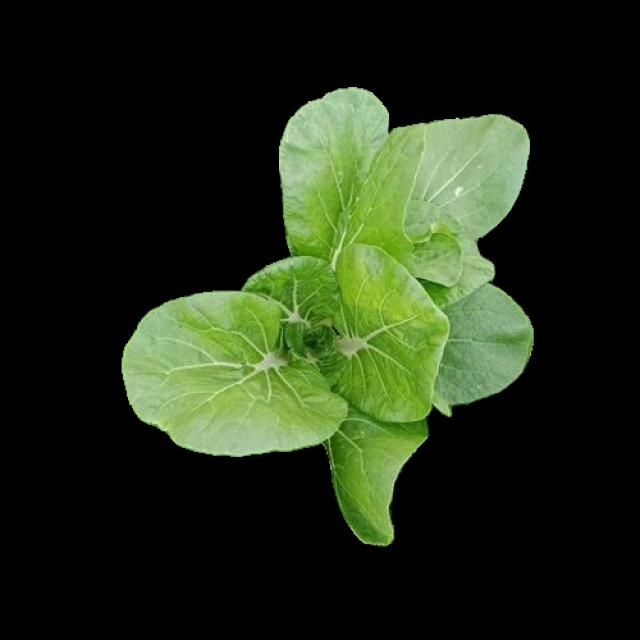healthy: (121, 85, 528, 538)
mature: (124, 87, 531, 540)
